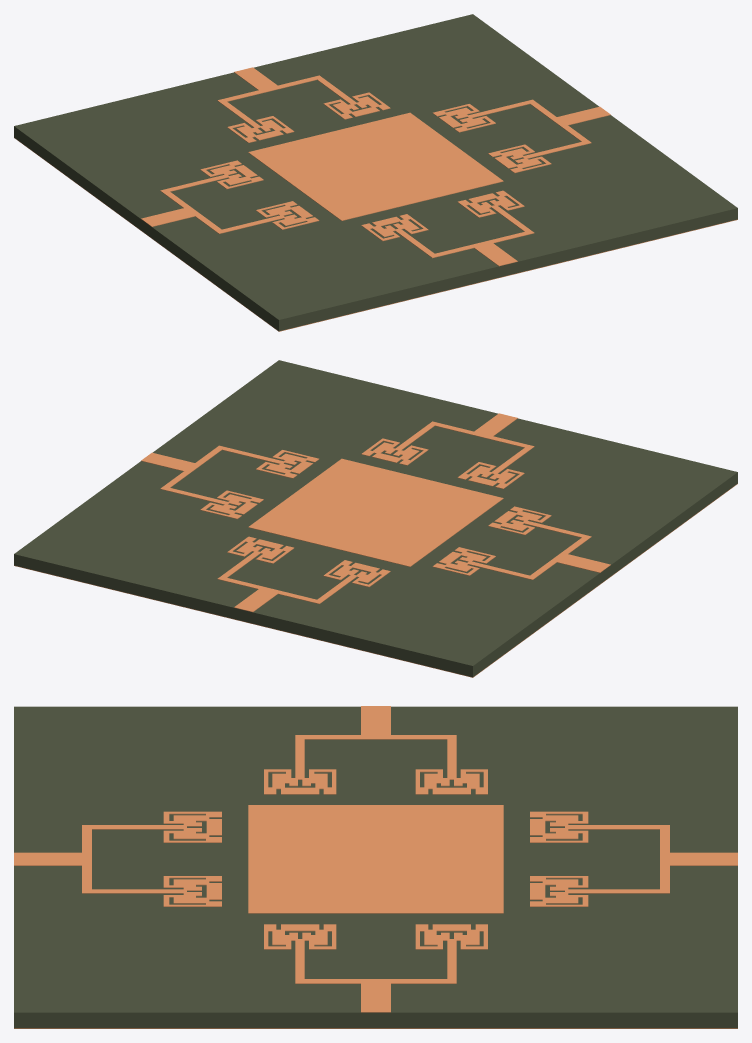
File: cst-antenna.glb
The picture shows the model from 3 angles, top to bottom: view 1: azimuth 30°, elevation 25°; view 2: azimuth 150°, elevation 25°; view 3: azimuth 270°, elevation 25°; orthographic projection. The views are drawn at different scales.
Parts seen in each view (by area): view 1: substrate, parasitic patch, feed network 1, feed network 3, feed network 4, feed network 2, ground plane; view 2: substrate, parasitic patch, feed network 1, feed network 3, feed network 2, feed network 4, ground plane; view 3: substrate, parasitic patch, feed network 2, feed network 4, feed network 1, feed network 3, ground plane.
Part boxes in pixels (bbox=[...]): substrate: bbox=[14, 14, 737, 331]; parasitic patch: bbox=[248, 112, 503, 220]; feed network 1: bbox=[141, 160, 319, 233]; feed network 3: bbox=[433, 99, 610, 173]; feed network 4: bbox=[217, 67, 390, 142]; feed network 2: bbox=[361, 190, 534, 266]; ground plane: bbox=[14, 137, 737, 331]; substrate: bbox=[14, 360, 737, 677]; parasitic patch: bbox=[248, 458, 503, 566]; feed network 1: bbox=[432, 506, 610, 579]; feed network 3: bbox=[141, 445, 318, 519]; feed network 2: bbox=[361, 413, 534, 488]; feed network 4: bbox=[217, 536, 390, 612]; ground plane: bbox=[14, 483, 737, 677]; substrate: bbox=[14, 706, 737, 1028]; parasitic patch: bbox=[248, 805, 503, 913]; feed network 2: bbox=[14, 811, 221, 906]; feed network 4: bbox=[530, 811, 737, 906]; feed network 1: bbox=[264, 706, 487, 794]; feed network 3: bbox=[264, 924, 487, 1012]; ground plane: bbox=[14, 1028, 737, 1028].
Size of the model in its own units: 34 by 0.87 by 34.
